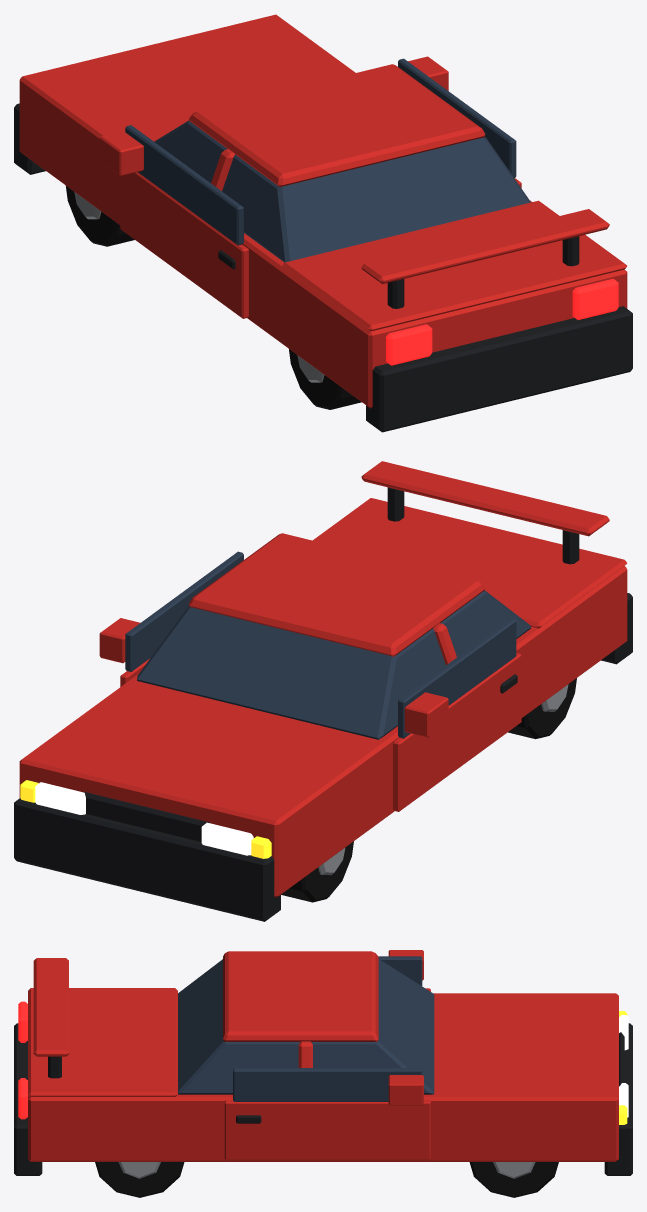
Rendered from car_coupe.glb.
3 views of the same model, one above another, from view 1: azimuth 30°, elevation 25°; view 2: azimuth 150°, elevation 25°; view 3: azimuth 270°, elevation 25° (orthographic). The views are drawn at different scales.
Parts seen in each view (by area): view 1: car_body, car_door_FL, car_door_FR; view 2: car_body, car_door_FL, car_door_FR; view 3: car_body, car_door_FR, car_door_FL.
Part boxes in pixels (x1,y1,x2,y2): car_body: (14, 14, 632, 432); car_door_FL: (99, 125, 248, 318); car_door_FR: (398, 56, 521, 188); car_body: (14, 461, 632, 921); car_door_FL: (393, 618, 521, 811); car_door_FR: (99, 551, 243, 686); car_body: (14, 951, 632, 1197); car_door_FR: (224, 1068, 430, 1160); car_door_FL: (378, 950, 430, 991).
Bounding box in the file's own units: 2.26 × 1.24 × 4.38.
